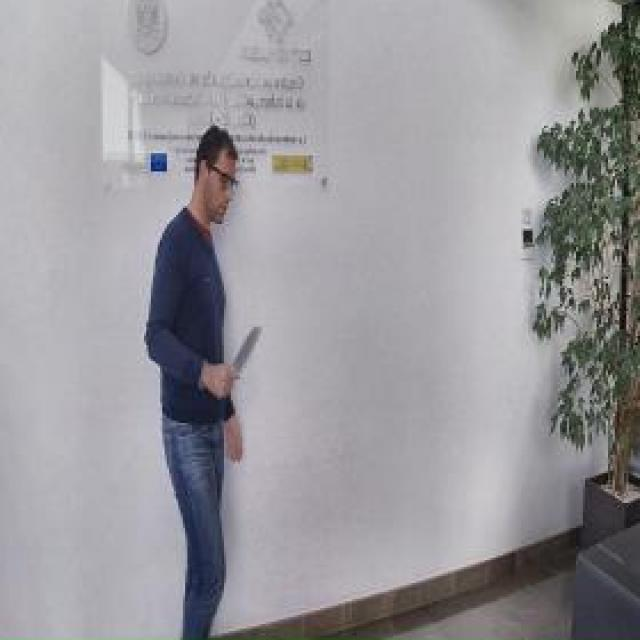knife: (216, 318, 265, 401)
